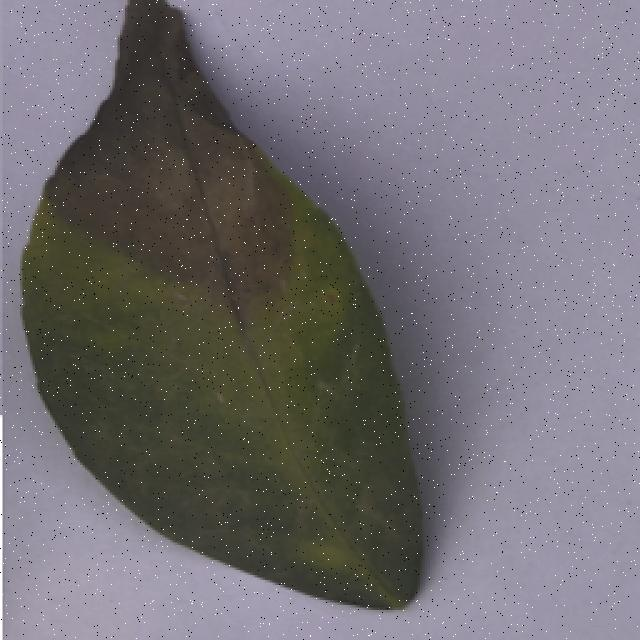canker: (19, 0, 432, 615)
